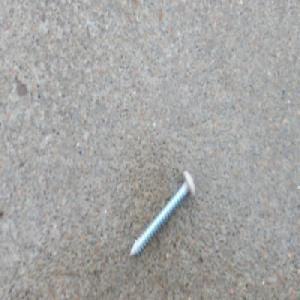Nail: (128, 168, 196, 260)
